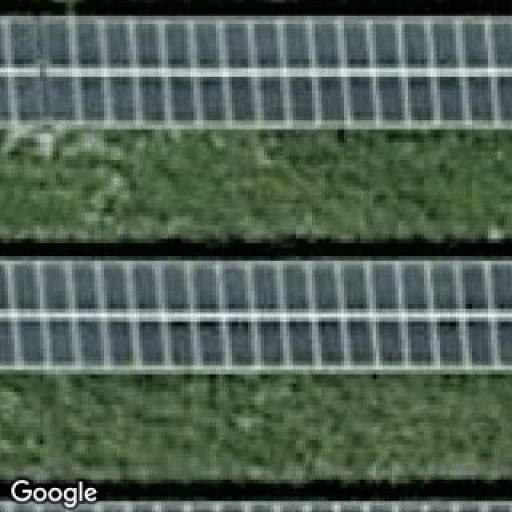solar-panel: (0, 264, 512, 373), (0, 16, 512, 123), (3, 501, 512, 512)
